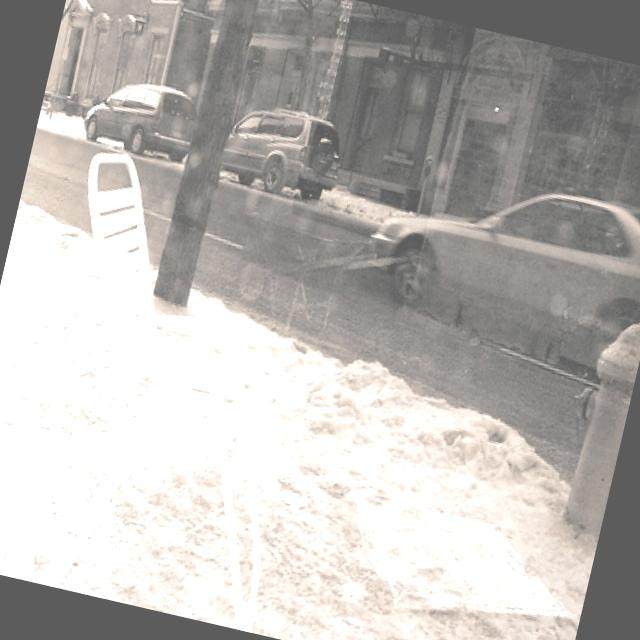Vehicle: (356, 153, 640, 370), (218, 98, 352, 208), (79, 70, 203, 164)
